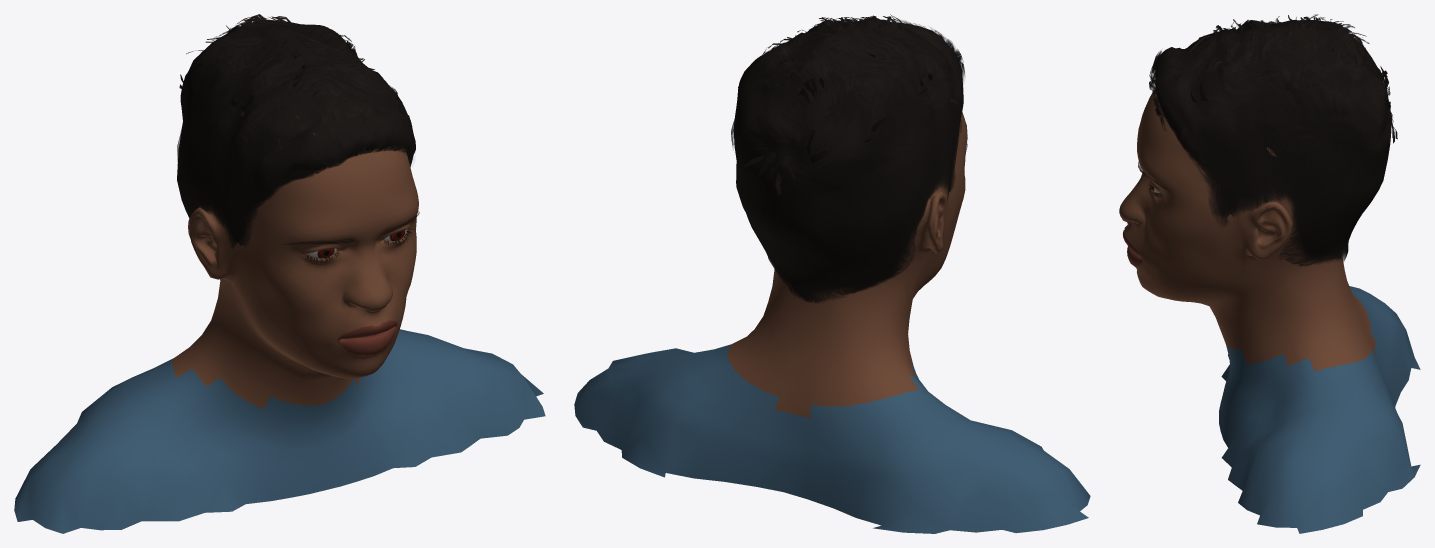
File: man-01.glb
3 renders of one model, left to right at view 1: azimuth 30°, elevation 25°; view 2: azimuth 150°, elevation 25°; view 3: azimuth 270°, elevation 25°, orthographic. The views are drawn at different scales.
Parts seen in each view (by area): view 1: mpfb-face, mpfb-face.short01; view 2: mpfb-face, mpfb-face.short01; view 3: mpfb-face, mpfb-face.short01.
Boxes of the visible parts, <box> form: mpfb-face: <box>14,117,545,533</box>; mpfb-face.short01: <box>177,14,415,248</box>; mpfb-face: <box>574,112,1090,533</box>; mpfb-face.short01: <box>731,14,964,303</box>; mpfb-face: <box>1119,90,1420,533</box>; mpfb-face.short01: <box>1149,14,1397,266</box>.
Size of the model in its own units: 0.4434 by 0.3469 by 0.242.
9 materials, 6 textured.
